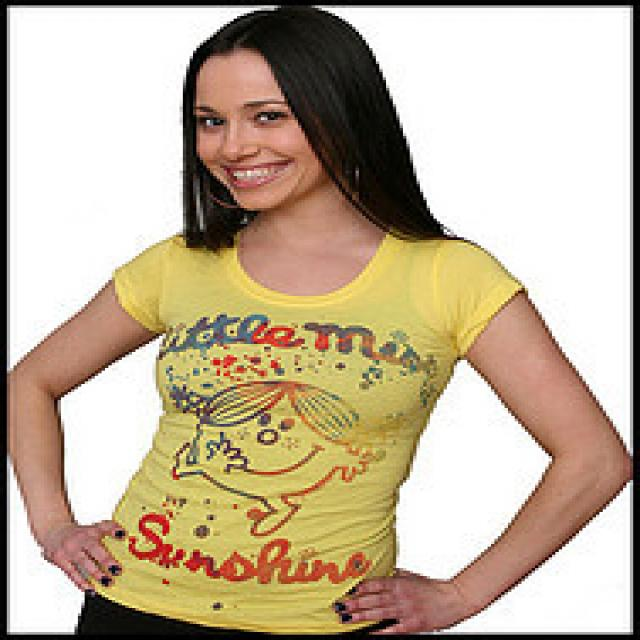T-shirt: (105, 216, 532, 624)
